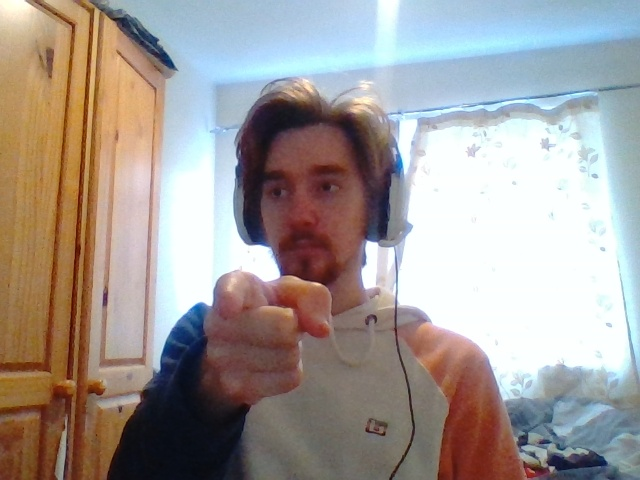you: (205, 270, 331, 397)
